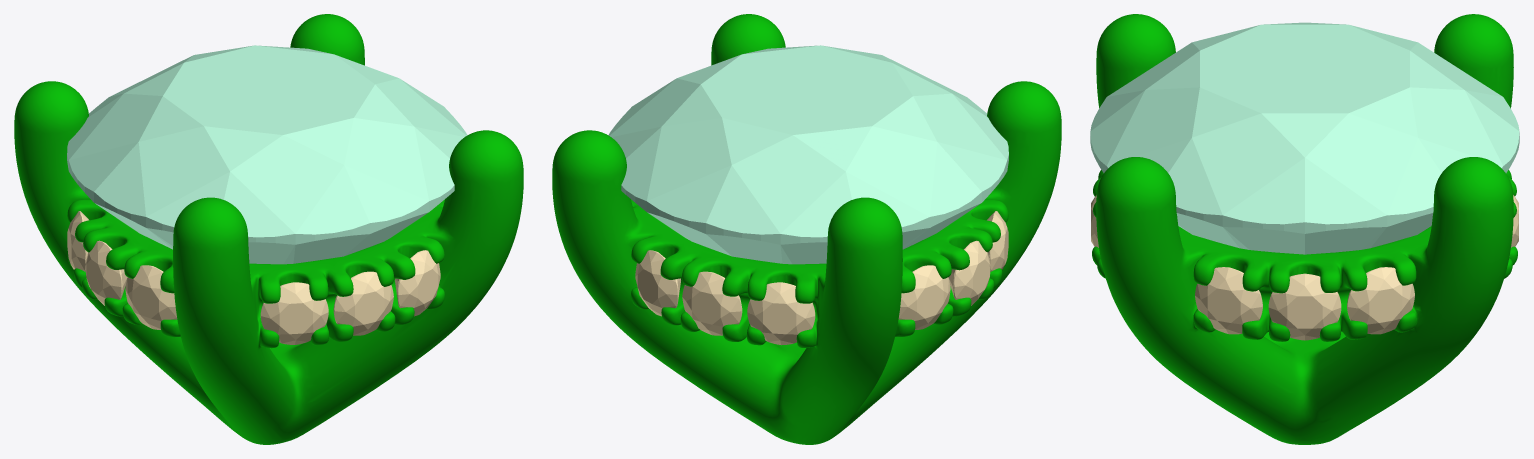
3 views of the same model, side by side, from view 1: azimuth 30°, elevation 25°; view 2: azimuth 150°, elevation 25°; view 3: azimuth 270°, elevation 25° (orthographic). The views are drawn at different scales.
Parts seen in each view (by area): view 1: Metal01, CS_Diamond, Diamond_Round.009, Diamond_Round.010, Diamond_Round, Diamond_Round.011, Diamond_Round.001, Diamond_Round.002; view 2: Metal01, CS_Diamond, Diamond_Round.003, Diamond_Round.004, Diamond_Round.002, Diamond_Round.005, Diamond_Round.001, Diamond_Round; view 3: Metal01, CS_Diamond, Diamond_Round.007, Diamond_Round.006, Diamond_Round.008.
Boxes of the visible parts, x1=… form: Metal01: x1=14, y1=14, x2=523, y2=444; CS_Diamond: x1=67, y1=45, x2=467, y2=264; Diamond_Round.009: x1=260, y1=282, x2=328, y2=344; Diamond_Round.010: x1=333, y1=271, x2=393, y2=335; Diamond_Round: x1=125, y1=265, x2=177, y2=329; Diamond_Round.011: x1=395, y1=250, x2=440, y2=316; Diamond_Round.001: x1=85, y1=240, x2=127, y2=305; Diamond_Round.002: x1=67, y1=211, x2=88, y2=271; Metal01: x1=552, y1=14, x2=1061, y2=444; CS_Diamond: x1=608, y1=45, x2=1008, y2=264; Diamond_Round.003: x1=747, y1=282, x2=815, y2=345; Diamond_Round.004: x1=682, y1=271, x2=742, y2=335; Diamond_Round.002: x1=898, y1=265, x2=950, y2=329; Diamond_Round.005: x1=635, y1=250, x2=680, y2=316; Diamond_Round.001: x1=948, y1=240, x2=990, y2=305; Diamond_Round: x1=987, y1=211, x2=1008, y2=271; Metal01: x1=1092, y1=14, x2=1517, y2=444; CS_Diamond: x1=1090, y1=22, x2=1519, y2=254; Diamond_Round.007: x1=1268, y1=273, x2=1341, y2=340; Diamond_Round.006: x1=1347, y1=267, x2=1414, y2=334; Diamond_Round.008: x1=1195, y1=267, x2=1262, y2=334.
Bounding box in the file's own units: 5.9 × 5.56 × 5.9.
